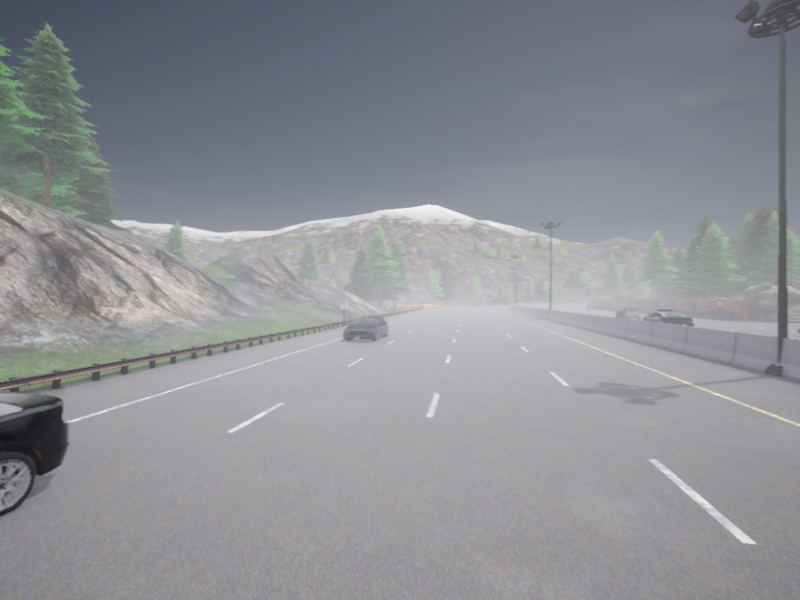vehicle: (0, 393, 69, 516), (343, 316, 389, 341), (641, 309, 693, 326), (615, 307, 640, 319), (798, 330, 799, 332)
